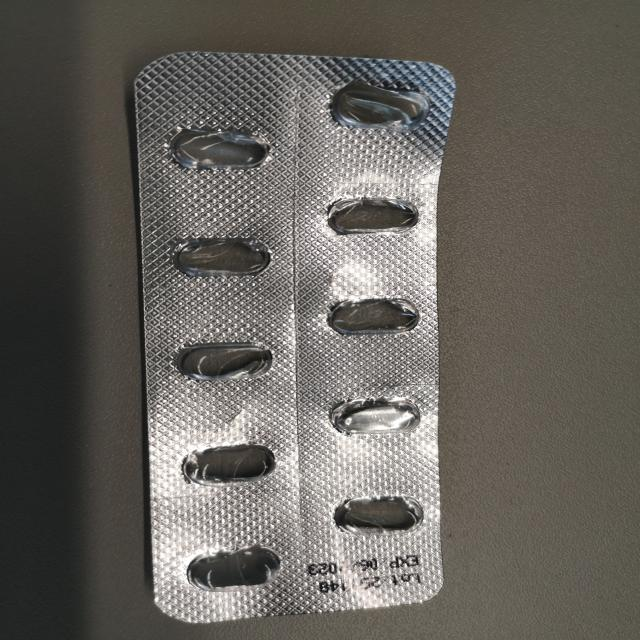Empty: (321, 78, 433, 131), (180, 544, 284, 593), (165, 124, 275, 170), (166, 234, 276, 280), (167, 339, 277, 382), (178, 442, 278, 486), (318, 196, 424, 236), (322, 296, 422, 338), (328, 494, 427, 536), (326, 396, 423, 438)
